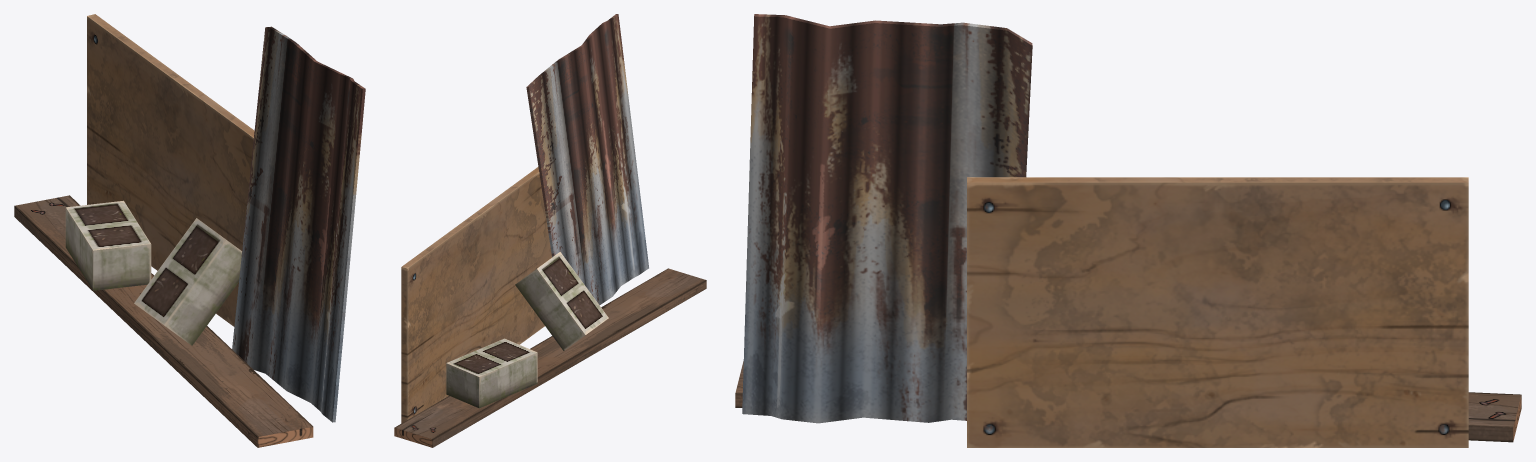
File: raisedBed_dressing08.fbx
3 views of the same model, side by side, from view 1: azimuth 30°, elevation 25°; view 2: azimuth 150°, elevation 25°; view 3: azimuth 270°, elevation 25° (orthographic). The views are drawn at different scales.
Parts seen in each view (by area): view 1: raisedBed_dressing08; view 2: raisedBed_dressing08; view 3: raisedBed_dressing08.
Boxes of the visible parts, x1=… form: raisedBed_dressing08: x1=14, y1=14, x2=365, y2=447; raisedBed_dressing08: x1=394, y1=14, x2=706, y2=447; raisedBed_dressing08: x1=735, y1=14, x2=1521, y2=447.
Bounding box in the file's own units: 57.36 × 150 × 247.
